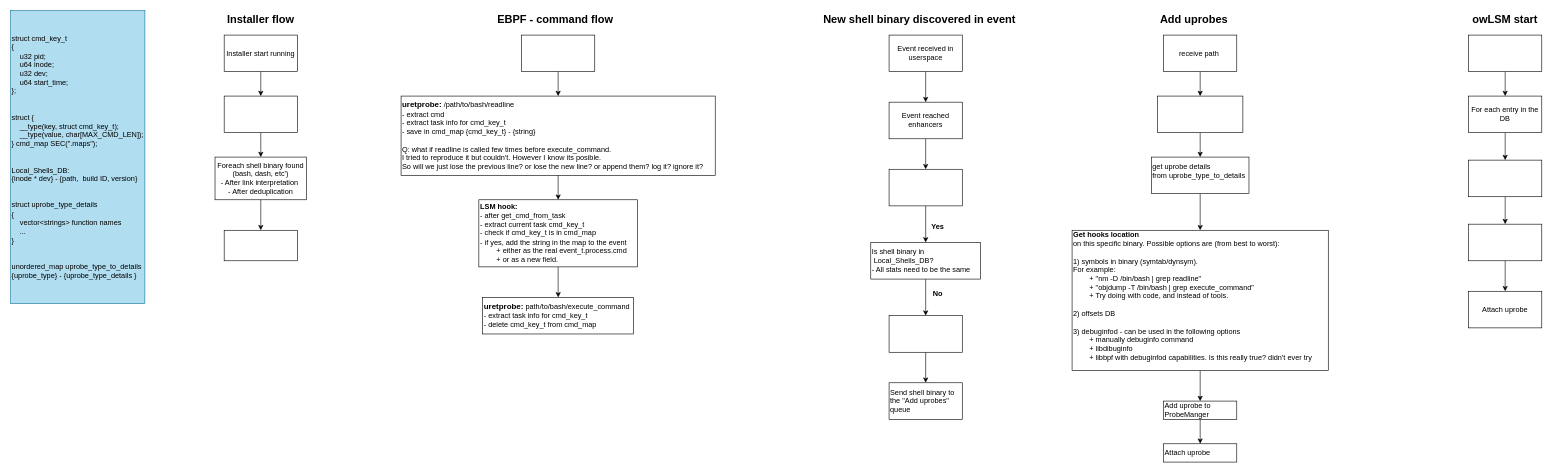
The diagram is 1552 pixels wide and 473 high, and some of its shapes have lost their labels. Here are the shapes that lost their labels. From the top down, the centre of each, then its label:
(558,53): User runs command
(1505,53): Maybe start with the "Installer flow" ?
(260,114): Iterate over root $PATH (and maybe users $PATH)
(1200,114): Identify uprobe type: bash, dash, libpam, etc'
(925,187): Is event of a shell command
(1505,178): Validate its still correct - remove entry if not
(260,245): Add shell binary to the Local_Shells_DB
(1505,242): Create a uprobe object
(925,333): Add shell binary to Local_Shells_DB
